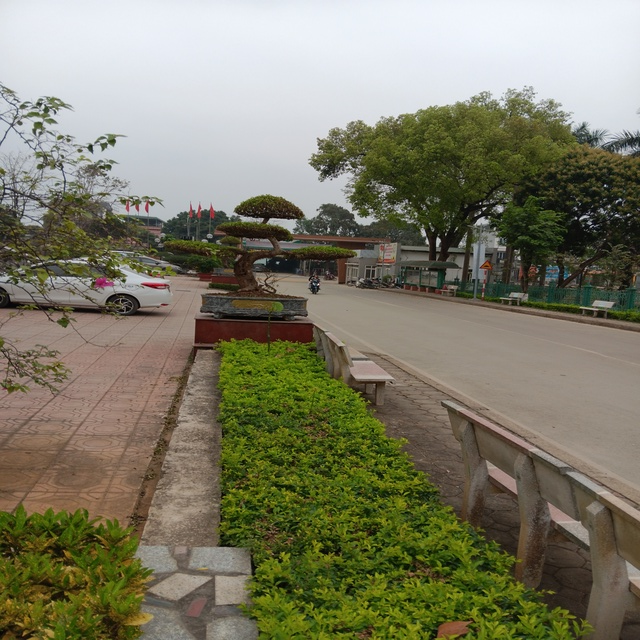gheda: (422, 396, 583, 587), (563, 452, 640, 640), (320, 334, 401, 396), (316, 315, 372, 382)
